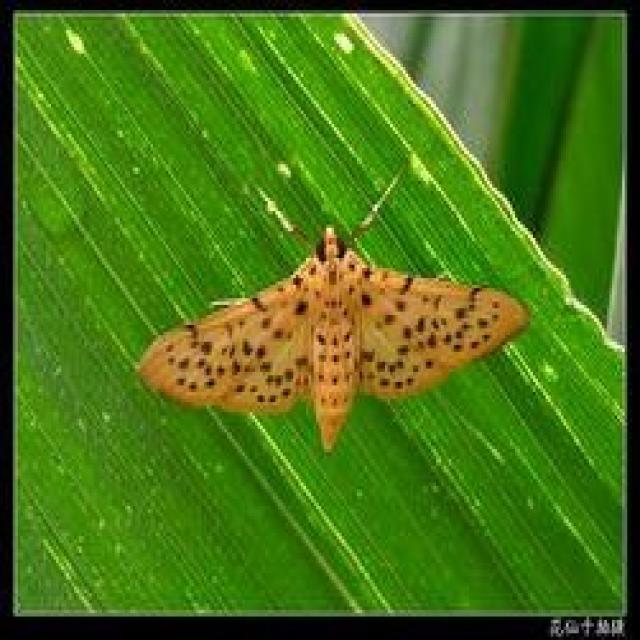peach borer: (136, 211, 534, 449)
